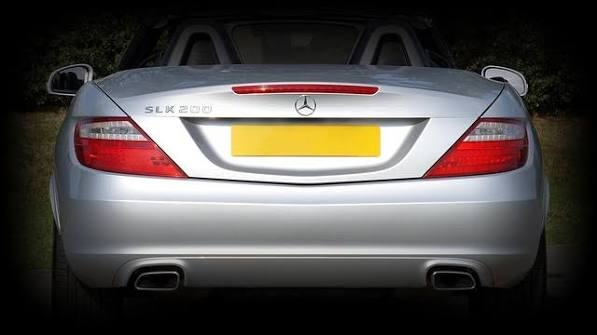car: (37, 4, 553, 312)
